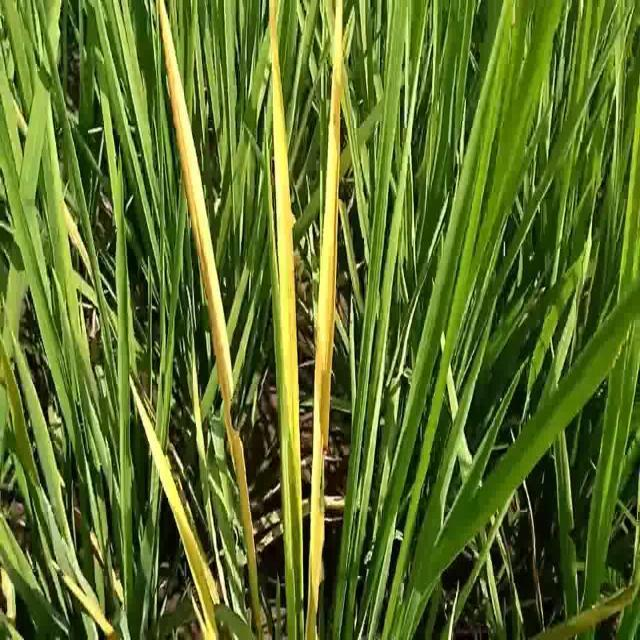Rice Tungro: (156, 1, 261, 511), (302, 1, 346, 631), (125, 375, 225, 640), (266, 2, 307, 501)
